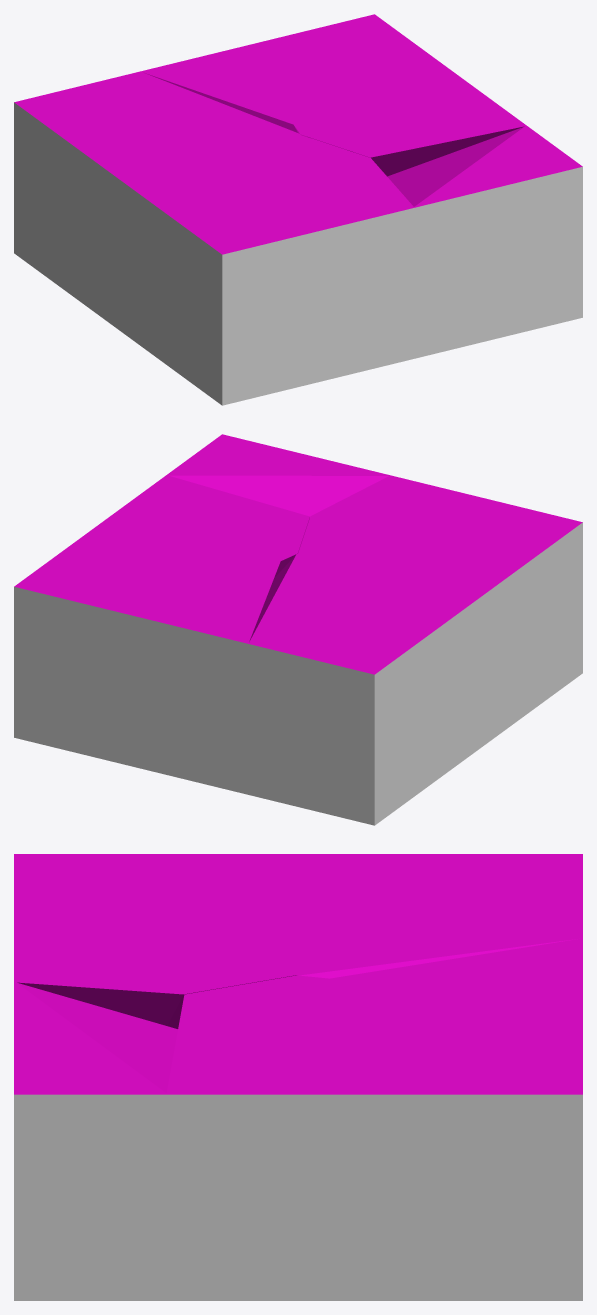
The model's file is Building_25x25_Base.fbx.
3 views of the same model, one above another, from view 1: azimuth 30°, elevation 25°; view 2: azimuth 150°, elevation 25°; view 3: azimuth 270°, elevation 25° (orthographic). The views are drawn at different scales.
Visible parts, largest first — view 1: Building_25x25_Base, Building_25x25_Base_cell.001, Building_25x25_Base_cell.002, Building_25x25_Base_cell.005, Building_25x25_Base_cell.007, Building_25x25_Base_cell, Building_25x25_Base_cell.004, Building_25x25_Base_cell.003; view 2: Building_25x25_Base, Building_25x25_Base_cell.002, Building_25x25_Base_cell.001, Building_25x25_Base_cell.007, Building_25x25_Base_cell.005, Building_25x25_Base_cell.004, Building_25x25_Base_cell.006, Building_25x25_Base_cell, Building_25x25_Base_cell.003; view 3: Building_25x25_Base, Building_25x25_Base_cell.001, Building_25x25_Base_cell.005, Building_25x25_Base_cell.004, Building_25x25_Base_cell.006, Building_25x25_Base_cell.007, Building_25x25_Base_cell.002, Building_25x25_Base_cell.003.
Part boxes in pixels (x1,y1,x2,y2): Building_25x25_Base: (14, 102, 582, 405); Building_25x25_Base_cell.001: (90, 134, 414, 329); Building_25x25_Base_cell.002: (14, 71, 300, 350); Building_25x25_Base_cell.005: (293, 27, 526, 176); Building_25x25_Base_cell.007: (140, 14, 391, 132); Building_25x25_Base_cell: (147, 289, 361, 405); Building_25x25_Base_cell.004: (360, 126, 582, 371); Building_25x25_Base_cell.003: (14, 88, 70, 126); Building_25x25_Base: (14, 522, 582, 825); Building_25x25_Base_cell.002: (143, 554, 509, 824); Building_25x25_Base_cell.001: (298, 475, 582, 680); Building_25x25_Base_cell.007: (14, 561, 280, 762); Building_25x25_Base_cell.005: (32, 475, 309, 578); Building_25x25_Base_cell.004: (167, 434, 389, 516); Building_25x25_Base_cell.006: (14, 632, 142, 768); Building_25x25_Base_cell: (507, 556, 582, 725); Building_25x25_Base_cell.003: (318, 650, 407, 703); Building_25x25_Base: (14, 1094, 582, 1300); Building_25x25_Base_cell.001: (14, 854, 374, 1028); Building_25x25_Base_cell.005: (166, 975, 535, 1253); Building_25x25_Base_cell.004: (14, 982, 273, 1300); Building_25x25_Base_cell.006: (273, 1119, 582, 1300); Building_25x25_Base_cell.007: (330, 938, 582, 1144); Building_25x25_Base_cell.002: (297, 854, 582, 978); Building_25x25_Base_cell.003: (490, 854, 582, 892).
Bounding box in the file's own units: 25 × 10 × 25.
